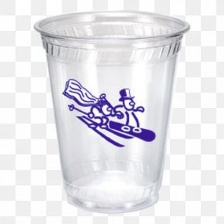glass: (29, 3, 195, 217)
